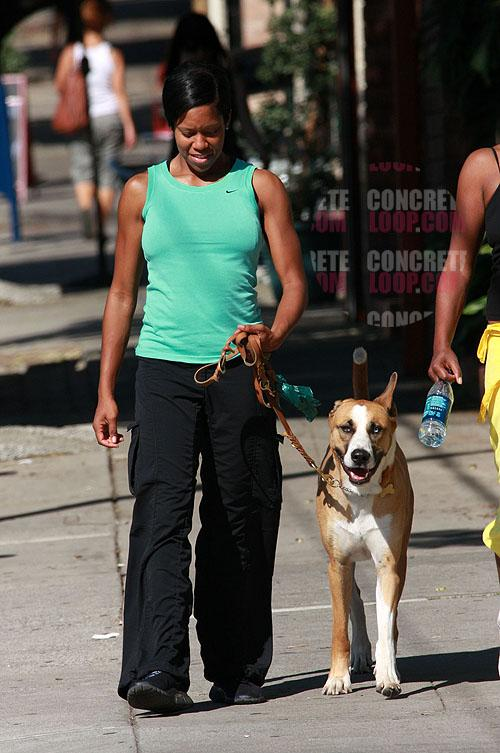person: (94, 50, 308, 702)
